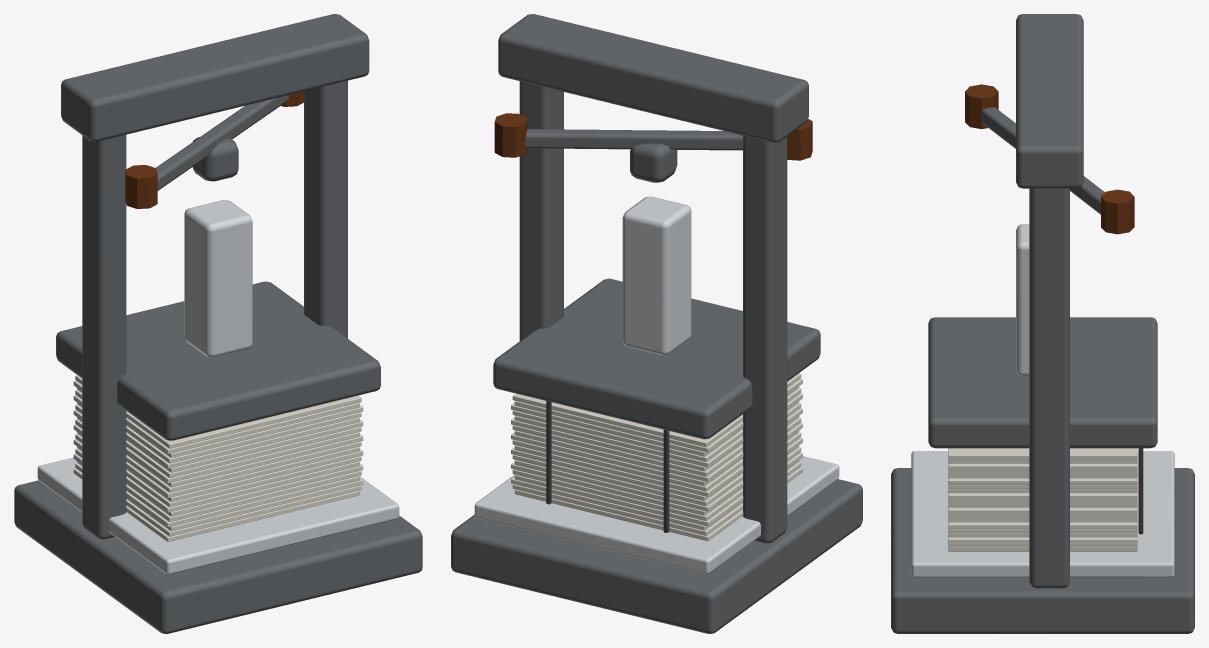
File: printing-press-and-newspaper-office-bundling-press-43e331e5__37748.glb
The picture shows the model from 3 angles, left to right: view 1: azimuth 30°, elevation 25°; view 2: azimuth 150°, elevation 25°; view 3: azimuth 270°, elevation 25°; orthographic projection.
Parts seen in each view (by area): view 1: bundling-press, ram/iron, ram/steel; view 2: bundling-press, ram/iron, ram/steel; view 3: bundling-press, ram/iron, ram/steel.
Part boxes in pixels (x1,y1,x2,y2): bundling-press: [14, 14, 422, 633]; ram/iron: [56, 281, 380, 440]; ram/steel: [184, 200, 252, 357]; bundling-press: [451, 14, 862, 633]; ram/iron: [493, 278, 820, 439]; ram/steel: [622, 196, 691, 355]; bundling-press: [891, 14, 1194, 633]; ram/iron: [928, 317, 1157, 448]; ram/steel: [1016, 224, 1029, 376].
Size of the model in its own units: 0.96 by 1.61 by 0.9001.
5 materials, 1 textured.
